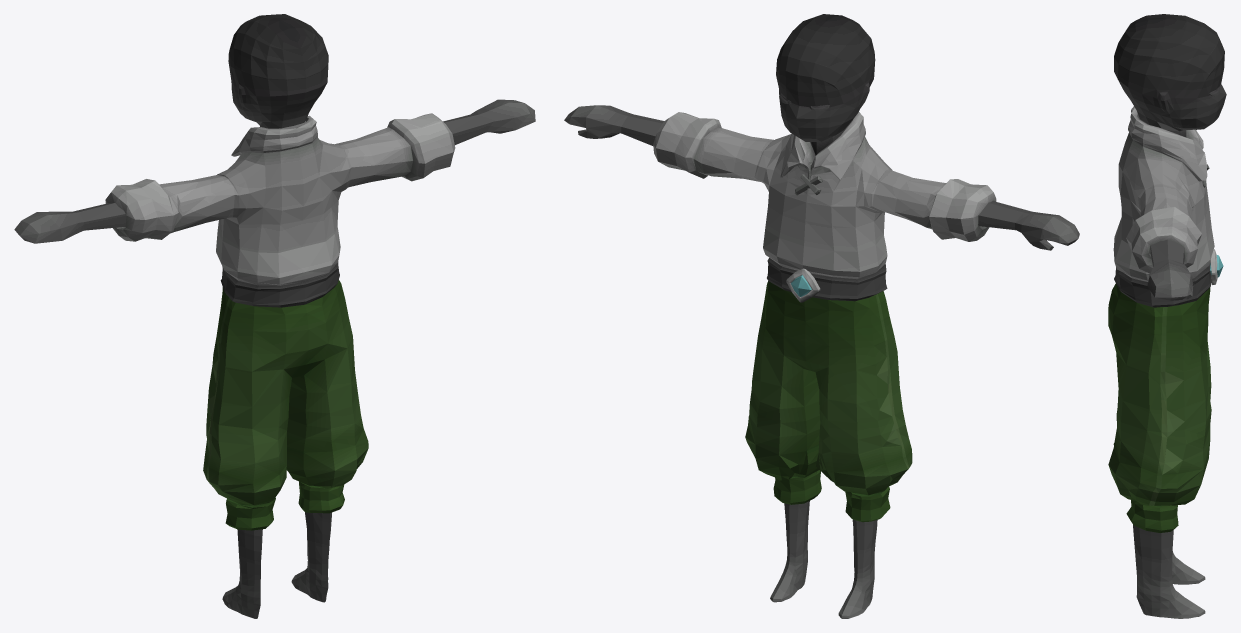
File: CharSkyKid_Body_TreasurePants.glb
3 renders of one model, left to right at view 1: azimuth 30°, elevation 25°; view 2: azimuth 150°, elevation 25°; view 3: azimuth 270°, elevation 25°, orthographic.
Visible parts, largest first — view 1: CharSkyKid_Body_TreasurePants; view 2: CharSkyKid_Body_TreasurePants; view 3: CharSkyKid_Body_TreasurePants.
Boxes of the visible parts, bbox=[...] form: CharSkyKid_Body_TreasurePants: bbox=[14, 14, 535, 618]; CharSkyKid_Body_TreasurePants: bbox=[564, 14, 1079, 618]; CharSkyKid_Body_TreasurePants: bbox=[1108, 14, 1226, 618].
Size of the model in its own units: 13.83 by 14.94 by 2.77.
Materials: 1 (1 with a texture image).
